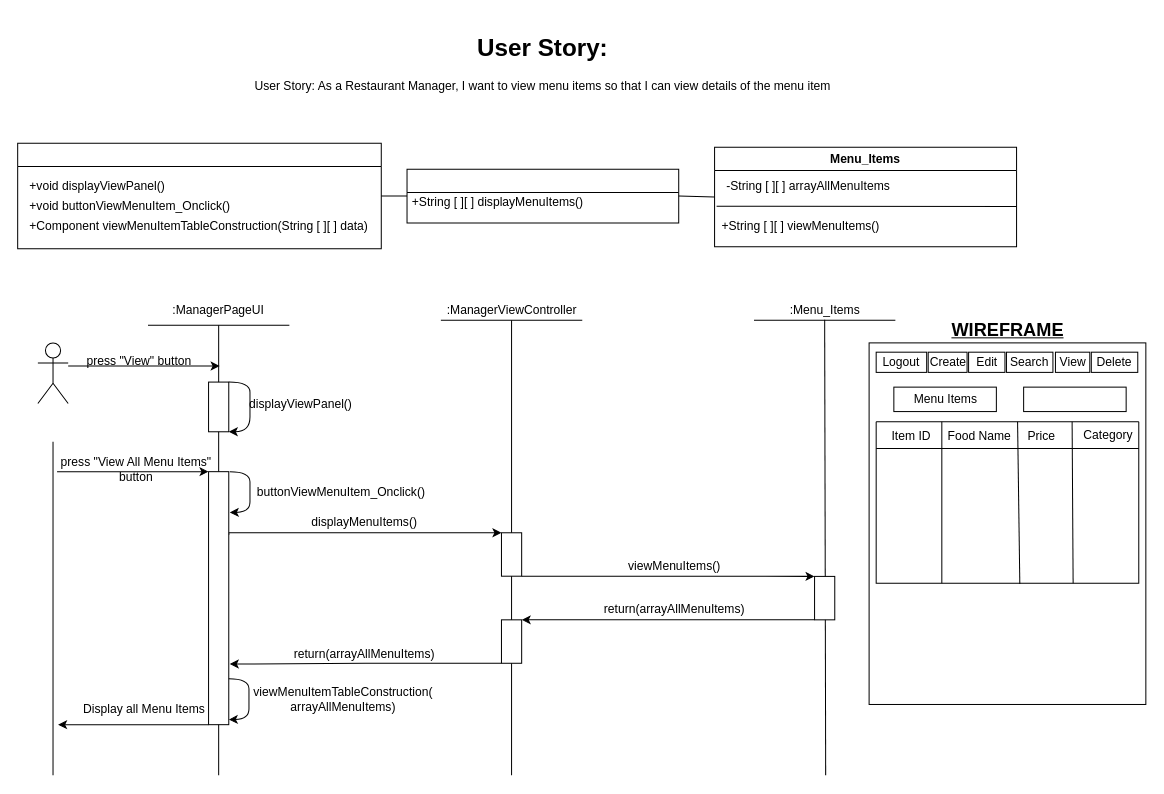
Some shapes in this 1164 by 794 pixel diagram are drawn without their labels. Each missing label, with the box of its shape:
Coupon: (1023, 386, 1126, 412)
ManagerPageUI: (17, 142, 381, 249)
ManagerViewController: (406, 168, 679, 223)
Restaurant Manager: (37, 342, 68, 403)
